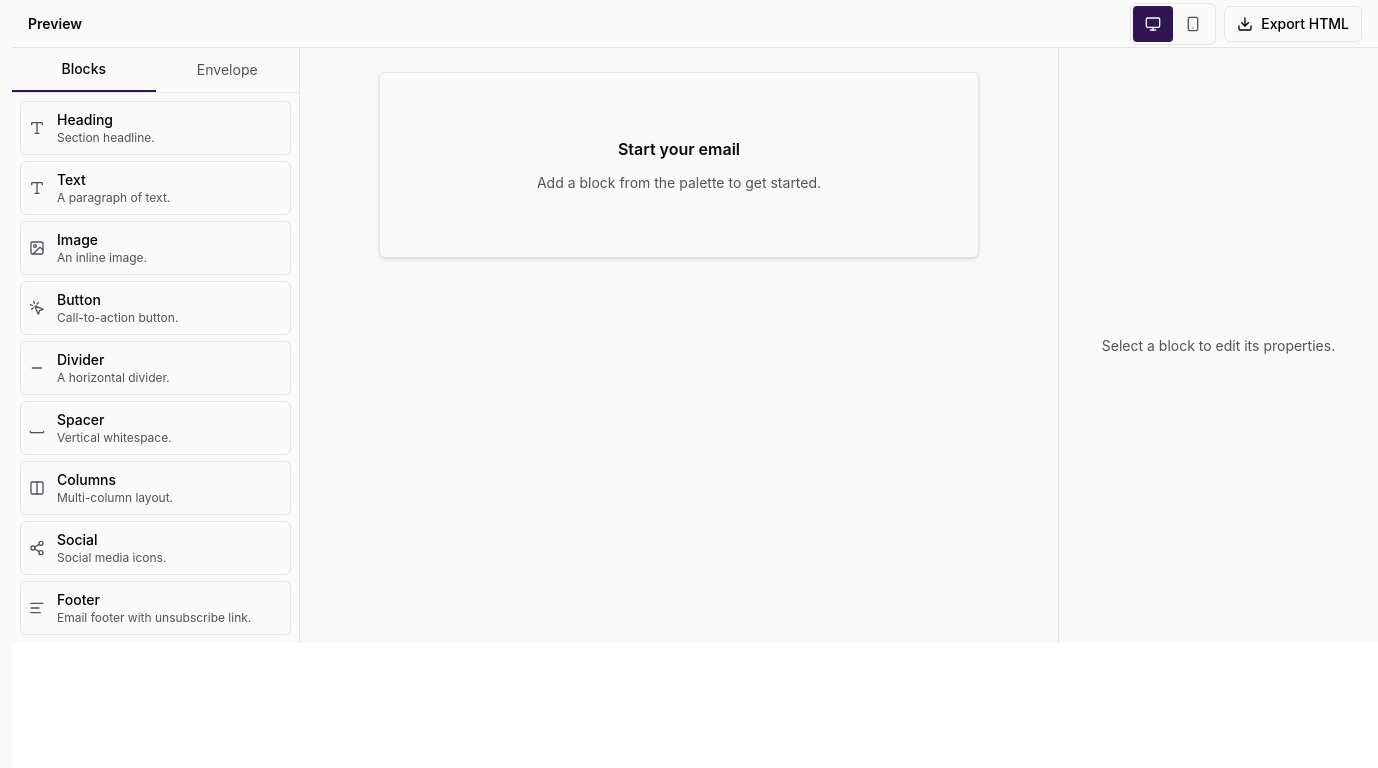
Test: EmailBuilder › adds a block when picked from the palette and re-renders the canvas
Expected: the text "Start your email" is shown, [618,137,740,161]
Click the button "Heading Section headline." at (156, 128), box [20,101,291,155]
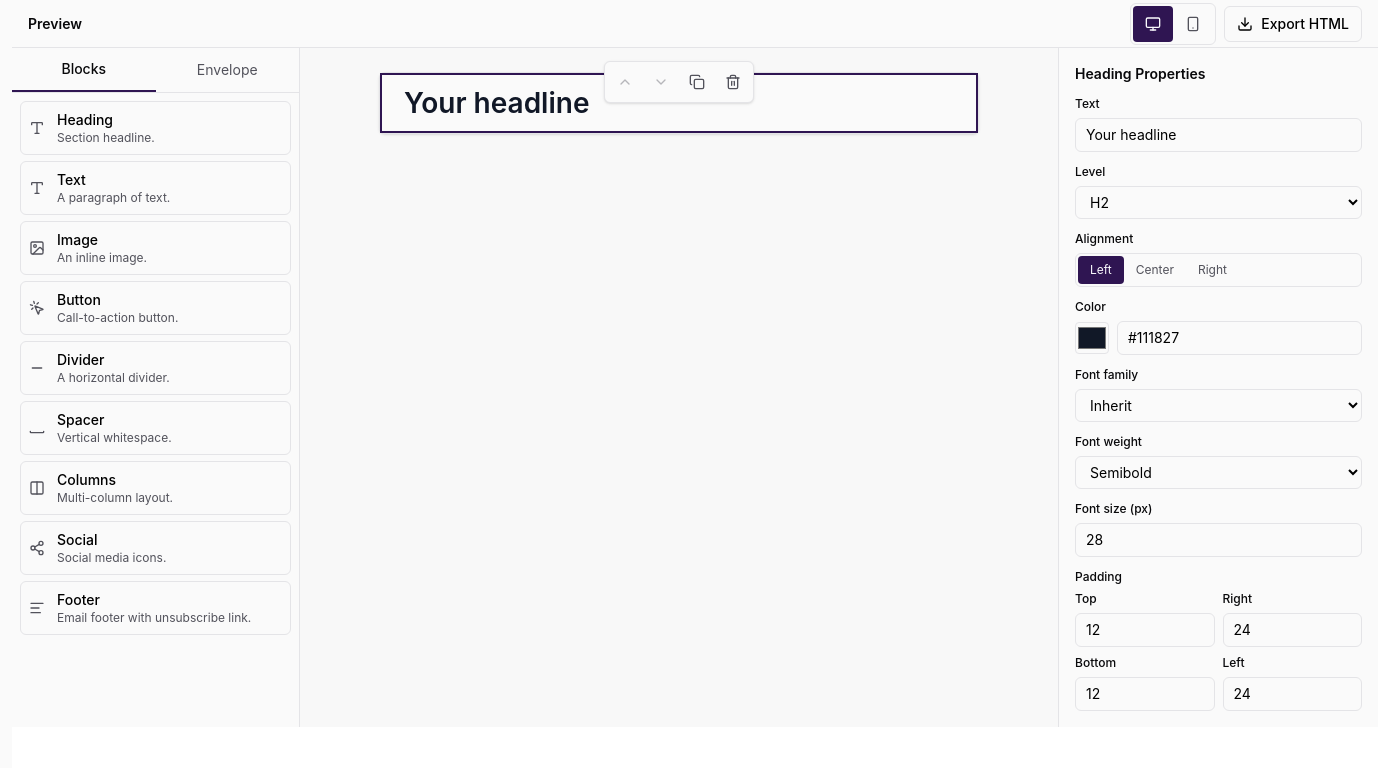
Result: the text "Start your email" is gone
Result: the heading "Your headline" is shown at [404,86,590,120]
